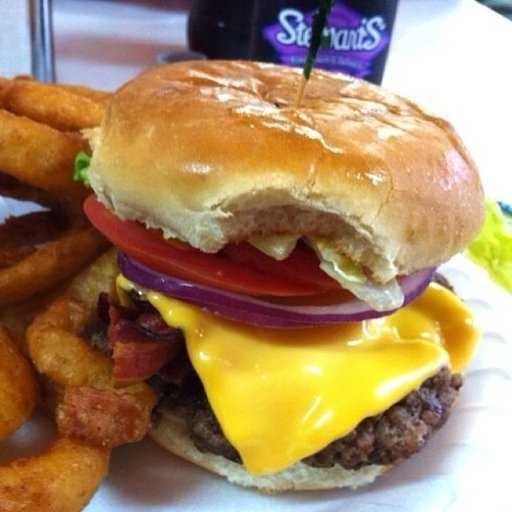hamburger: (31, 48, 471, 495)
